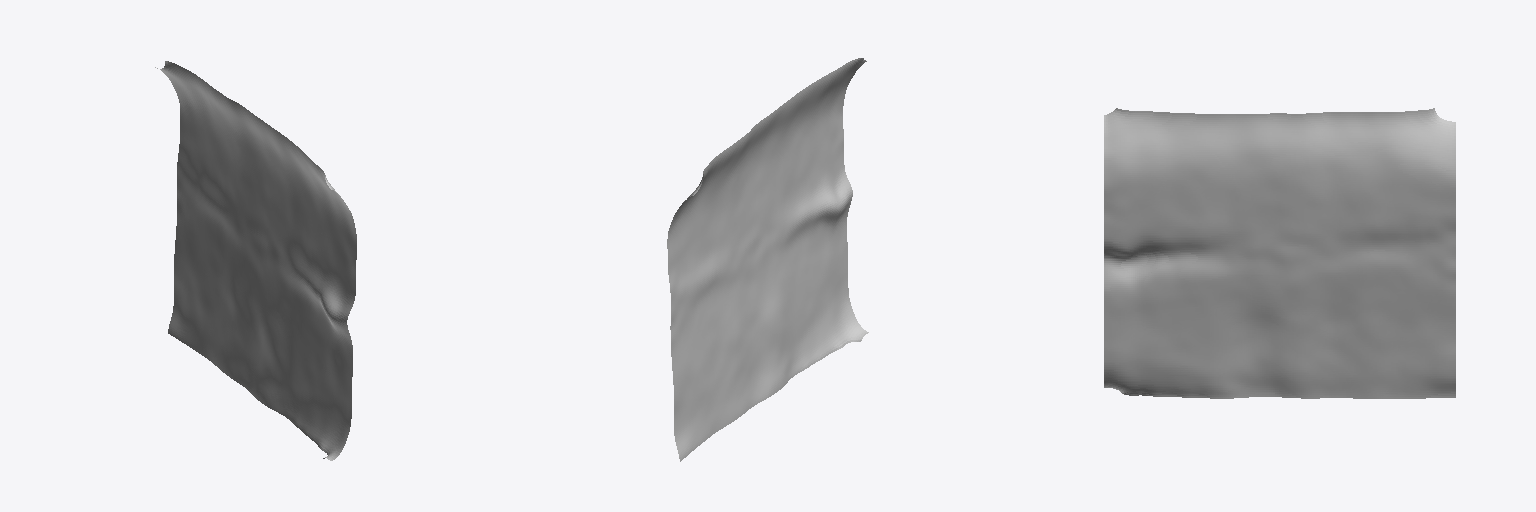
File: basics_example_mesh_marching_cubes_remeshed.obj
3 renders of one model, left to right at view 1: azimuth 30°, elevation 25°; view 2: azimuth 150°, elevation 25°; view 3: azimuth 270°, elevation 25°, orthographic.
Visible parts, largest first — view 1: b; view 2: b; view 3: b.
Boxes of the visible parts, x1=… form: b: x1=155, y1=61, x2=356, y2=460; b: x1=667, y1=58, x2=868, y2=461; b: x1=1104, y1=108, x2=1455, y2=398.
Size of the model in its own units: 15.87 by 162 by 183.